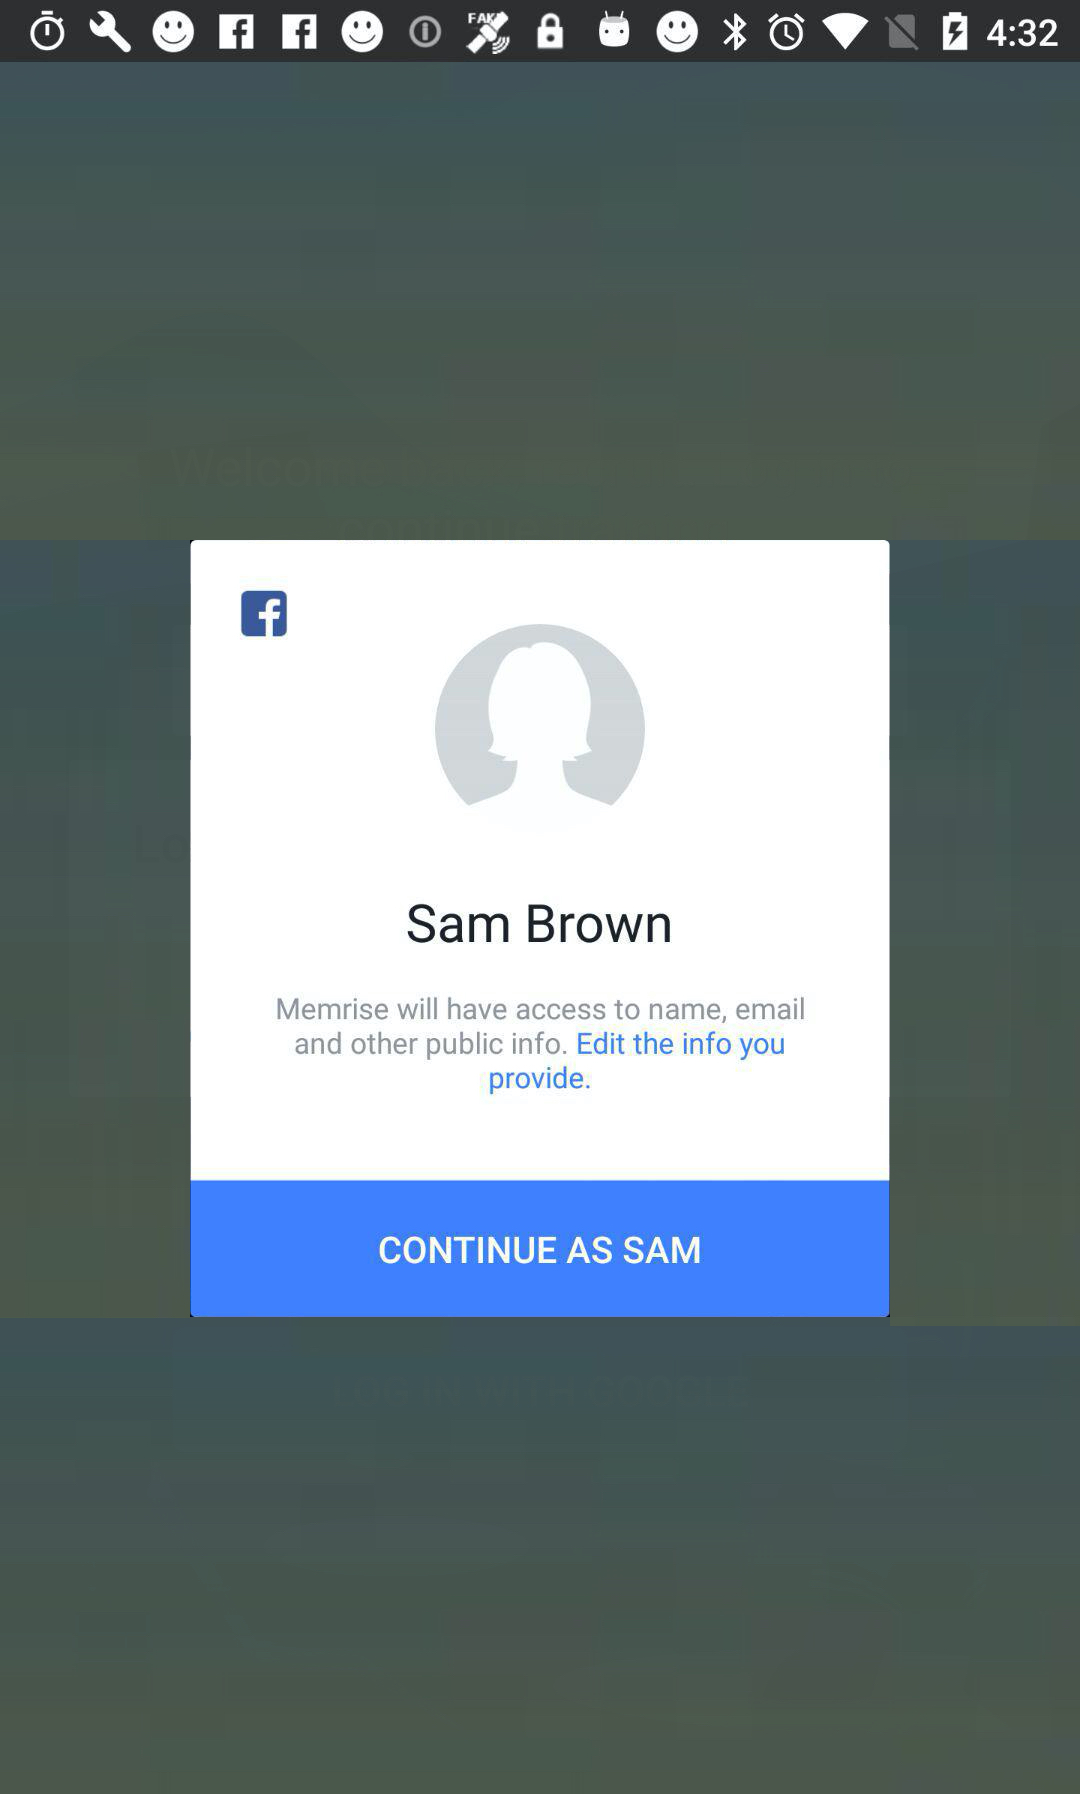Icon: (436, 624, 647, 807), (241, 589, 290, 638)
Modal: (191, 539, 890, 1319)
Text: (277, 996, 806, 1096), (407, 903, 673, 944)
TextButton: (191, 1181, 890, 1319)
UpperTaskBar: (1, 1, 1080, 64)
